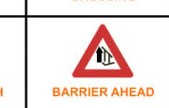Traffic signal: (72, 23, 135, 80)
